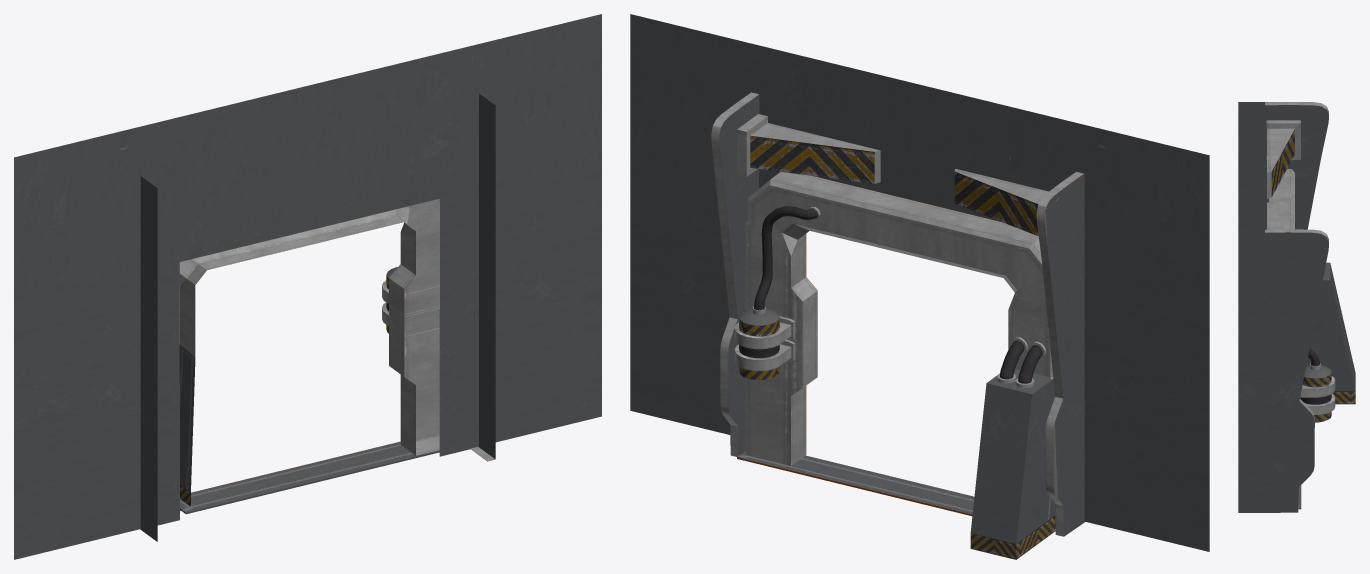
File: door_cap.FBX
3 views of the same model, side by side, from view 1: azimuth 30°, elevation 25°; view 2: azimuth 150°, elevation 25°; view 3: azimuth 270°, elevation 25° (orthographic). The views are drawn at different scales.
Visible parts, largest first — view 1: Lab_Door_Cube_004; view 2: Lab_Door_Cube_004; view 3: Lab_Door_Cube_004.
Part boxes in pixels (x1=…): Lab_Door_Cube_004: x1=14, y1=14, x2=601, y2=559; Lab_Door_Cube_004: x1=630, y1=14, x2=1209, y2=559; Lab_Door_Cube_004: x1=1238, y1=102, x2=1355, y2=512.
Size of the model in its own units: 521 by 342 by 114.
1 material, 1 textured.
